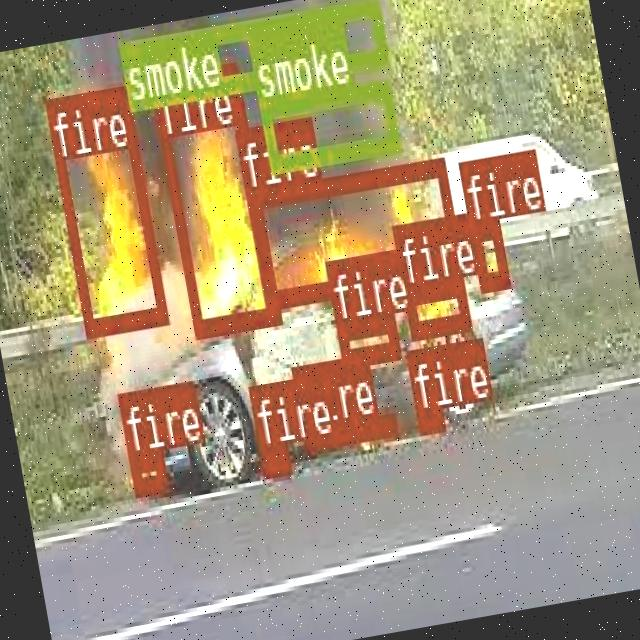fire: (148, 62, 278, 334), (245, 156, 462, 304), (42, 84, 164, 332), (400, 274, 470, 337), (333, 312, 398, 362), (301, 412, 396, 446), (466, 218, 506, 290), (126, 450, 166, 493), (258, 442, 289, 474), (414, 408, 442, 431)
smoke: (117, 0, 386, 106), (256, 78, 396, 168)
